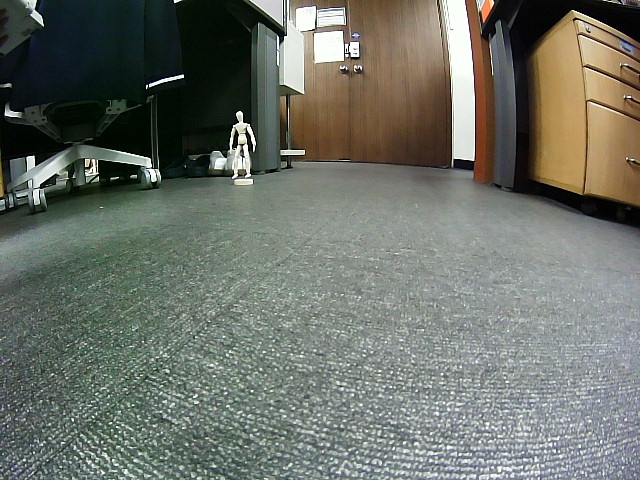person: (229, 111, 256, 179)
